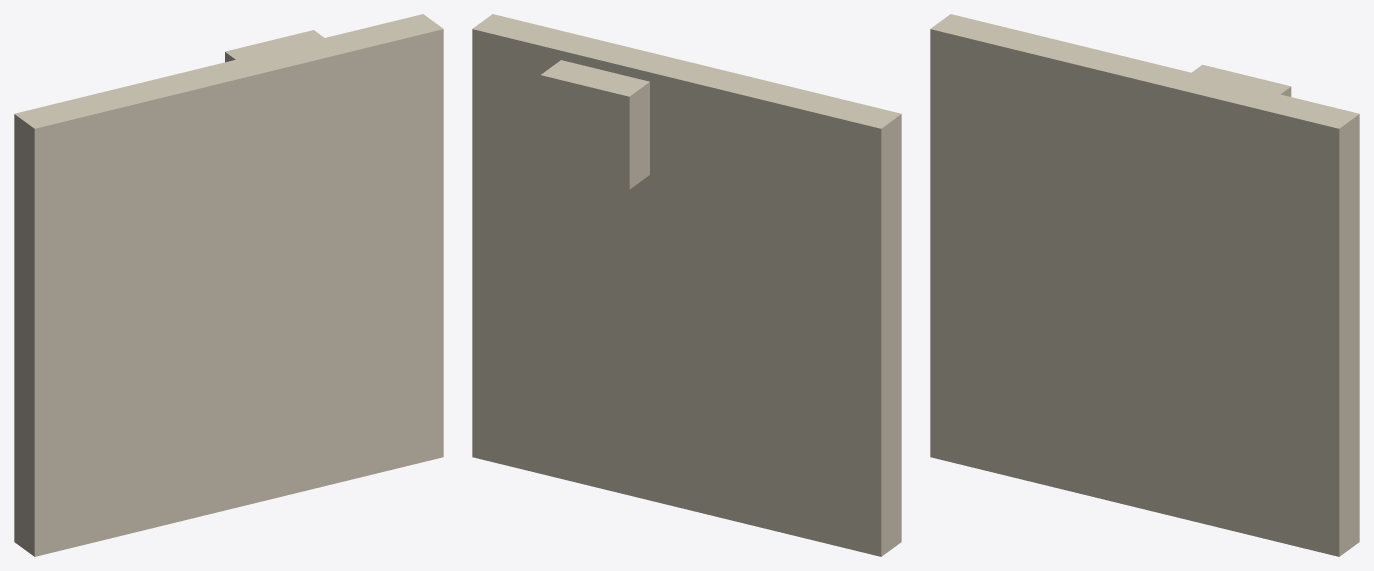
The model's file is NiclaMockUp.glb.
3 renders of one model, left to right at view 1: azimuth 30°, elevation 25°; view 2: azimuth 150°, elevation 25°; view 3: azimuth 330°, elevation 25°, orthographic.
Parts seen in each view (by area): view 1: Mesh_Mesh_head_geo.001_lambert2SG.001; view 2: Mesh_Mesh_head_geo.001_lambert2SG.001; view 3: Mesh_Mesh_head_geo.001_lambert2SG.001.
Boxes of the visible parts, x1,y1,x2,y2 form: Mesh_Mesh_head_geo.001_lambert2SG.001: (14,14,443,556); Mesh_Mesh_head_geo.001_lambert2SG.001: (472,14,901,556); Mesh_Mesh_head_geo.001_lambert2SG.001: (930,14,1359,556).
Bounding box in the file's own units: 23 × 23 × 4.
